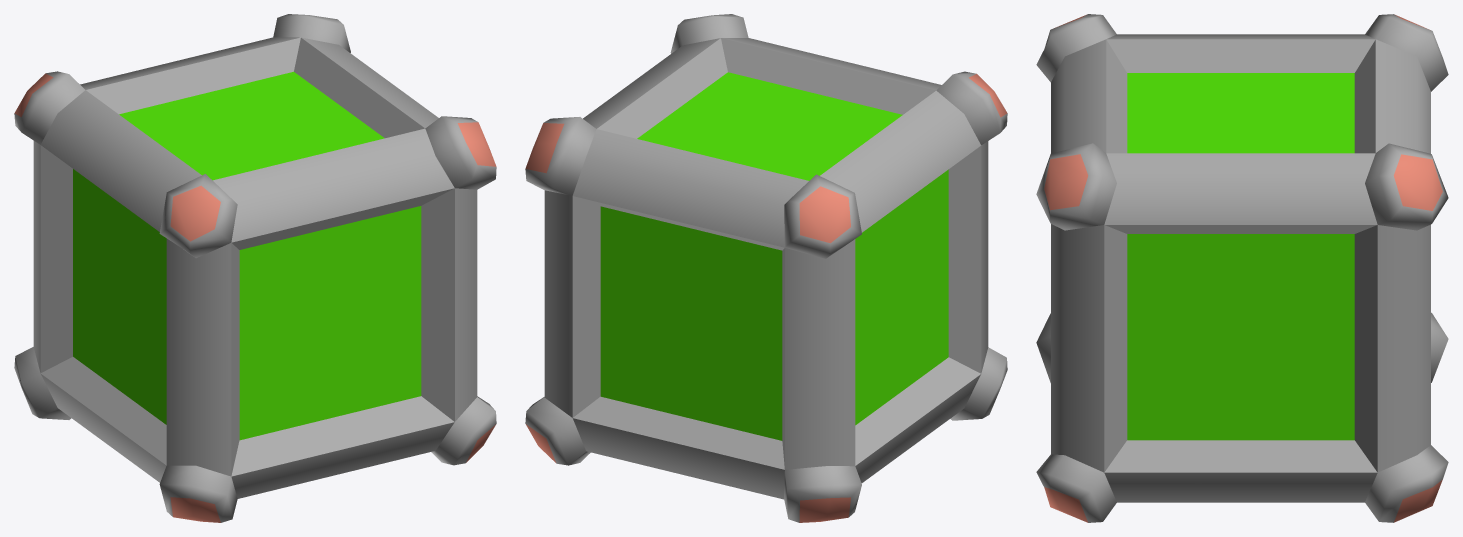
Rendered from SM_ModularSciFiBox.fbx.
3 renders of one model, left to right at view 1: azimuth 30°, elevation 25°; view 2: azimuth 150°, elevation 25°; view 3: azimuth 270°, elevation 25°, orthographic. The views are drawn at different scales.
Visible parts, largest first — view 1: pCube67; view 2: pCube67; view 3: pCube67.
Part boxes in pixels (x1,y1,x2,y2): pCube67: (14,14,496,522); pCube67: (525,14,1007,522); pCube67: (1036,14,1448,522).
Bounding box in the file's own units: 67.22 × 67.48 × 67.16.
